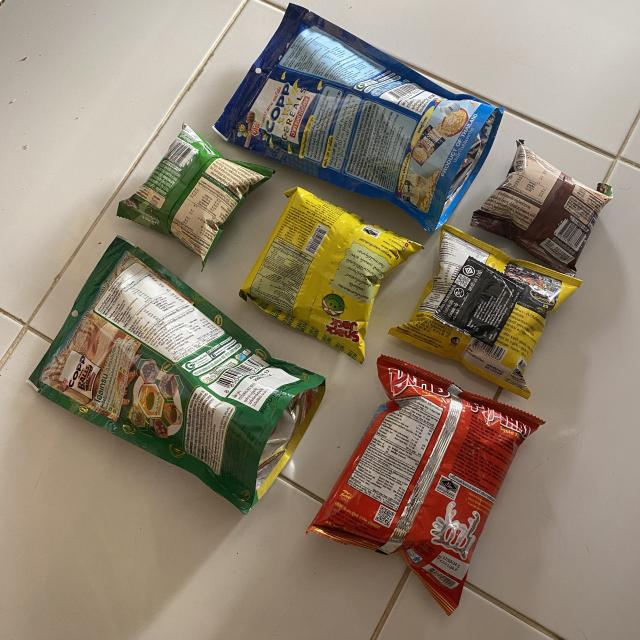plastik: (28, 236, 325, 514), (214, 4, 504, 232), (308, 355, 544, 615), (389, 225, 581, 399), (240, 188, 422, 362), (118, 124, 272, 265), (471, 140, 612, 275)
